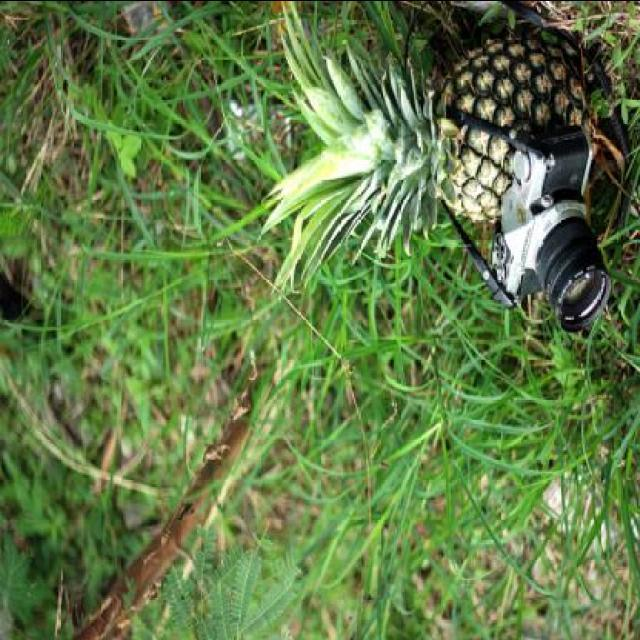Pineapple: (255, 1, 588, 299)
